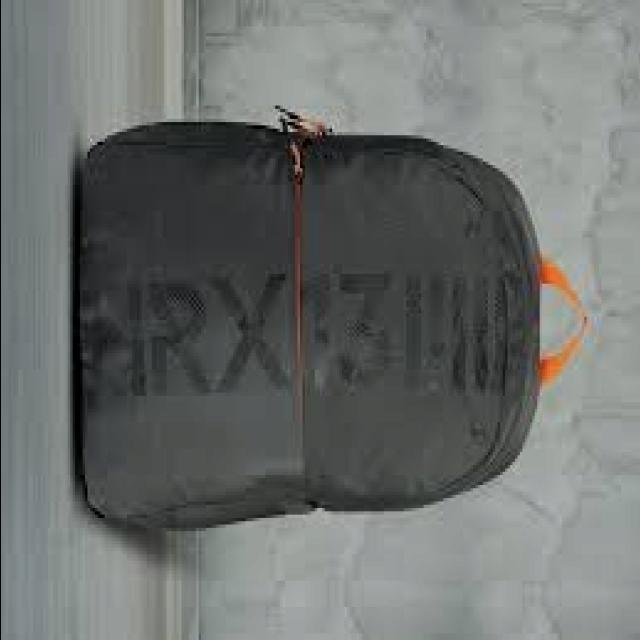backpack: (75, 117, 567, 533)
